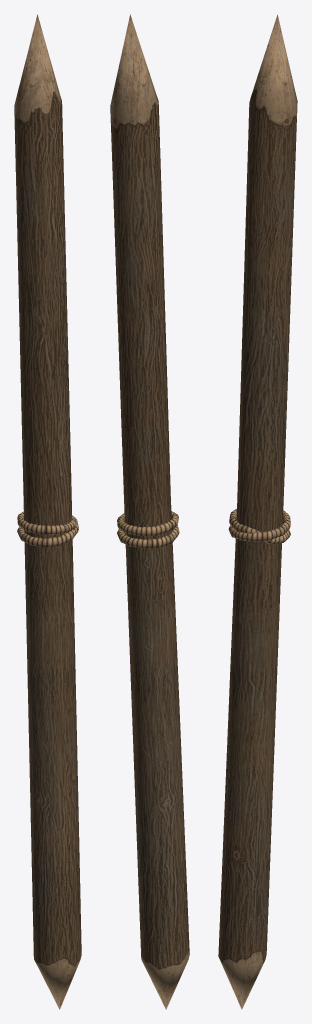
Rendered from SM_Wood_Spike.fbx.
3 renders of one model, left to right at view 1: azimuth 90°, elevation 25°; view 2: azimuth 150°, elevation 25°; view 3: azimuth 330°, elevation 25°, orthographic.
Visible parts, largest first — view 1: SM_Spike_wood, SM_Spike_rope; view 2: SM_Spike_wood, SM_Spike_rope; view 3: SM_Spike_wood, SM_Spike_rope.
Part boxes in pixels (bbox=[...]): SM_Spike_wood: bbox=[14, 14, 81, 1009]; SM_Spike_rope: bbox=[17, 511, 78, 547]; SM_Spike_wood: bbox=[110, 14, 189, 1009]; SM_Spike_rope: bbox=[117, 511, 179, 548]; SM_Spike_wood: bbox=[218, 14, 297, 1009]; SM_Spike_rope: bbox=[228, 509, 290, 543].
Bounding box in the file's own units: 52.05 × 787 × 48.89.
